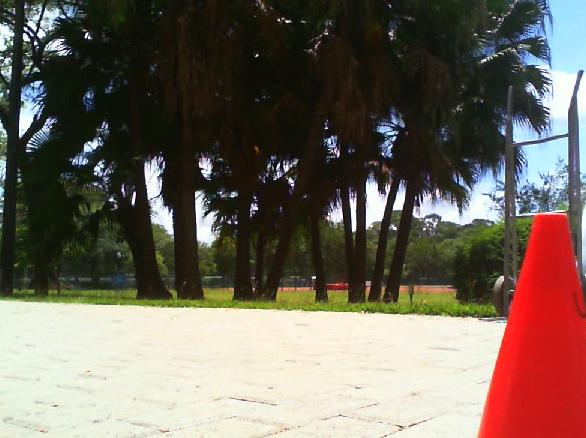0 cone: (473, 212, 586, 438)
